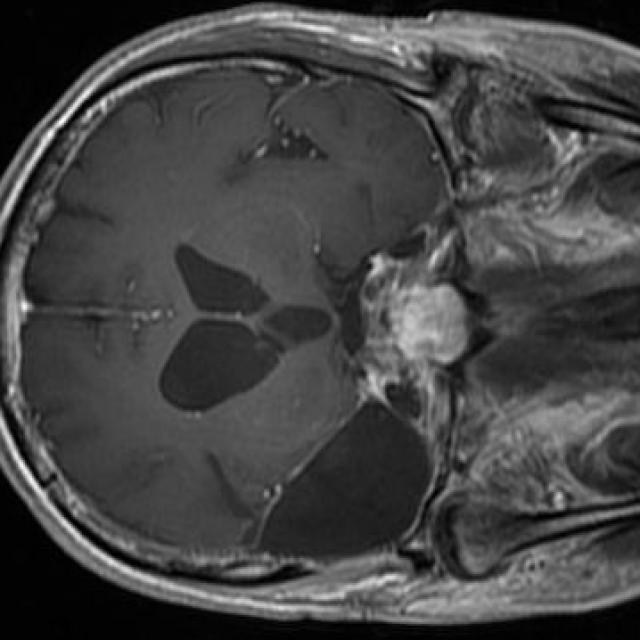glioma: (251, 380, 435, 562)
